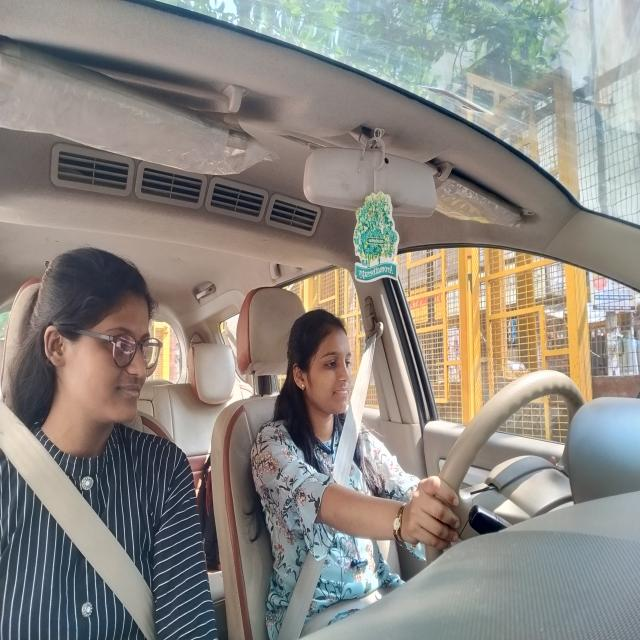person: (39, 248, 158, 438), (290, 307, 352, 422)
